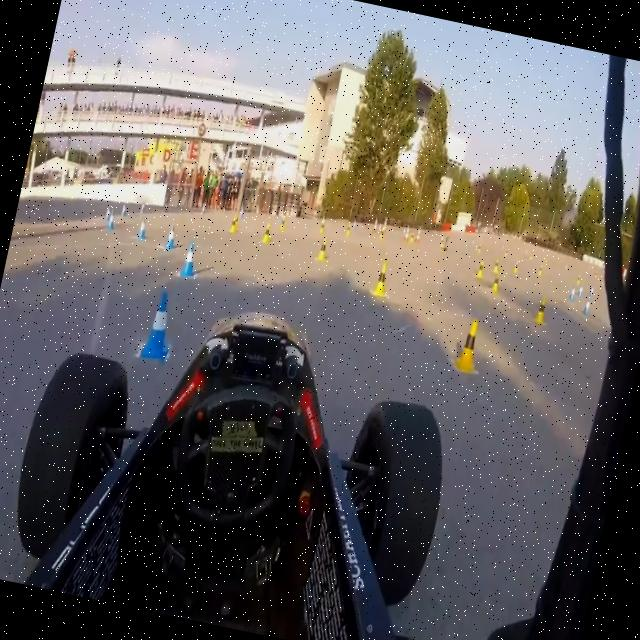blue_cone: (136, 284, 183, 366), (177, 237, 201, 280), (163, 222, 180, 254), (135, 216, 150, 247), (106, 209, 118, 231), (582, 296, 592, 314), (103, 203, 111, 222), (568, 284, 576, 301), (120, 203, 128, 218), (577, 284, 585, 298), (238, 207, 245, 220), (588, 285, 595, 297)
yellow_cone: (452, 318, 484, 378), (371, 261, 392, 299), (314, 235, 331, 263), (533, 296, 549, 324), (260, 221, 272, 245), (474, 258, 487, 280), (489, 274, 501, 295), (492, 257, 501, 274), (228, 218, 236, 234), (232, 212, 240, 228), (512, 260, 520, 276), (344, 224, 352, 238), (536, 264, 544, 278), (278, 217, 286, 230), (319, 220, 326, 234), (476, 241, 482, 254), (576, 274, 581, 284), (504, 248, 508, 258)
